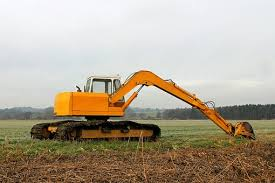excavator: (33, 66, 257, 153)
